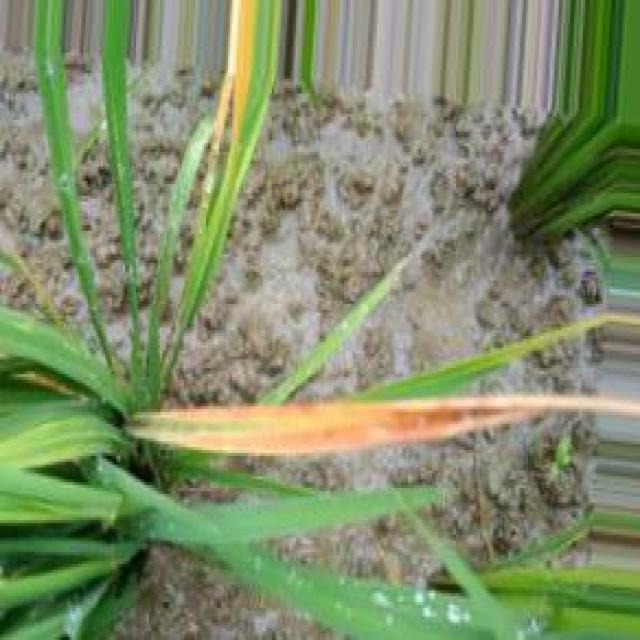Rice Tungro: (130, 395, 640, 456), (231, 0, 256, 139)
